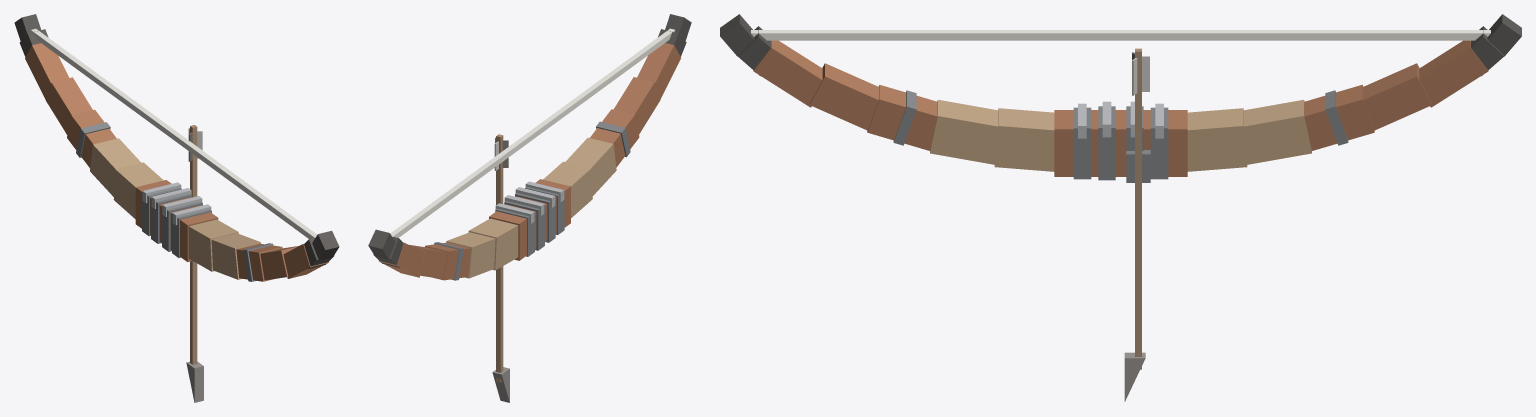
File: art_reinforced_longbow.fbx
3 renders of one model, left to right at view 1: azimuth 30°, elevation 25°; view 2: azimuth 150°, elevation 25°; view 3: azimuth 270°, elevation 25°, orthographic. The views are drawn at different scales.
Parts seen in each view (by area): view 1: BowString, LimbU_2, LimbU_4, Handle, LimbU_1, LimbL_1, LimbU_5, ArrowShaft, LimbL_2, LimbU_3, LimbL_3, LimbL_4 (+13 smaller); view 2: BowString, LimbL_2, Handle, LimbL_4, LimbL_1, LimbU_1, LimbL_5, ArrowShaft, LimbU_2, LimbL_3, LimbU_3, LimbU_4 (+13 smaller); view 3: BowString, Handle, LimbL_2, LimbU_2, LimbL_1, LimbU_1, LimbL_4, LimbU_4, LimbL_3, LimbU_3, LimbL_5, LimbU_5 (+6 smaller).
Part boxes in pixels (x1,y1,x2,y2): BowString: (31,28,317,238); LimbU_2: (90,138,141,196); LimbU_4: (45,77,92,134); Handle: (135,180,218,261); LimbU_1: (113,162,163,218); LimbL_1: (188,219,238,271); LimbU_5: (25,43,69,99); ArrowShaft: (190,125,197,364); LimbL_2: (211,233,260,279); LimbU_3: (67,109,116,168); LimbL_3: (236,243,282,281); LimbL_4: (260,246,298,280); BowString: (390,28,675,237); LimbL_2: (565,137,616,195); Handle: (489,179,570,260); LimbL_4: (613,77,660,134); LimbL_1: (543,161,592,217); LimbU_1: (468,218,518,270); LimbL_5: (637,43,680,98); ArrowShaft: (496,134,503,382); LimbU_2: (446,232,495,278); LimbL_3: (590,109,639,167); LimbU_3: (425,242,470,280); LimbU_4: (408,244,446,278); BowString: (751,30,1490,40); Handle: (1054,110,1187,176); LimbL_2: (930,99,998,164); LimbU_2: (1243,99,1311,164); LimbL_1: (994,108,1054,171); LimbU_1: (1187,108,1247,171); LimbL_4: (809,63,878,130); LimbU_4: (1363,63,1432,130); LimbL_3: (867,84,937,150); LimbU_3: (1304,84,1374,150); LimbL_5: (753,40,822,107); LimbU_5: (1419,40,1488,107).
Size of the model in its own units: 0.4135 by 2.31 by 4.57.
